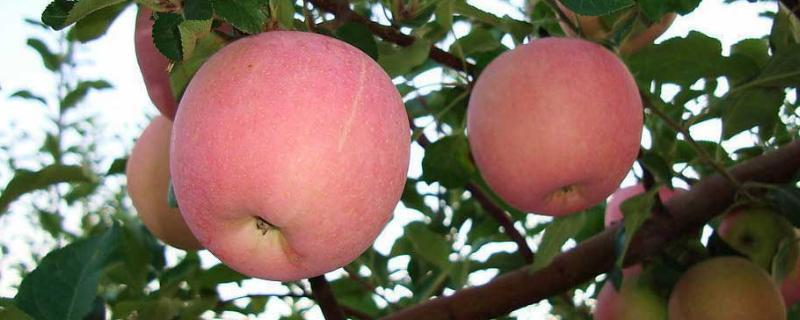apple: (169, 29, 412, 285), (464, 32, 646, 213)
